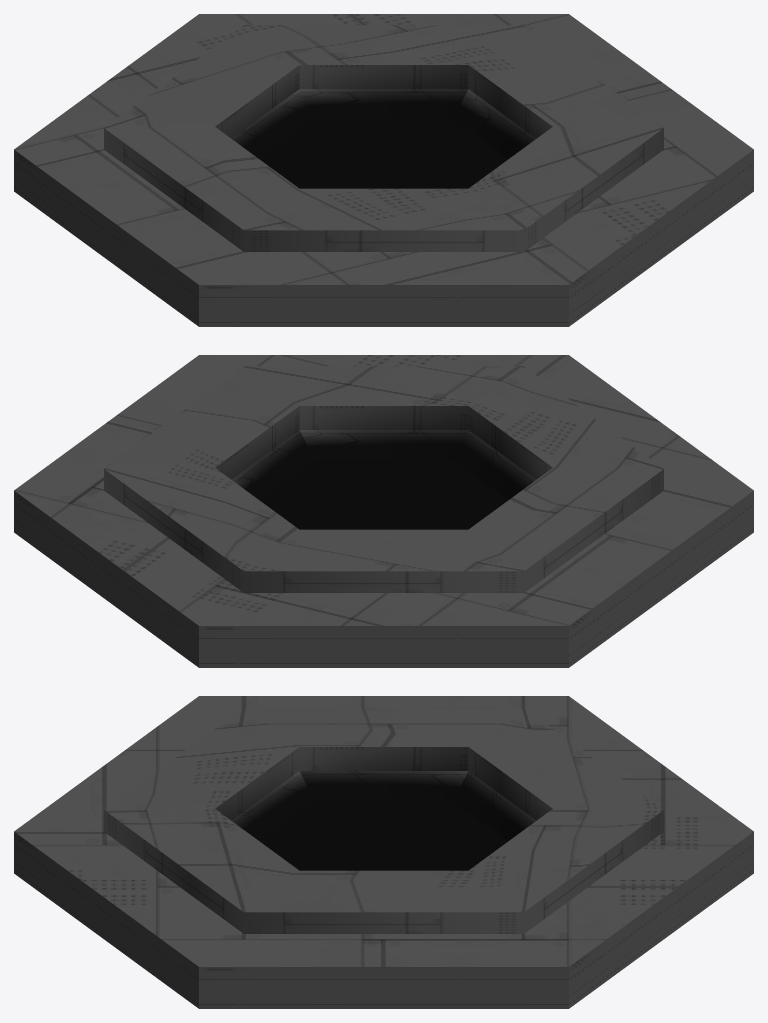
File: spawnerhole.fbx
3 views of the same model, one above another, from view 1: azimuth 30°, elevation 25°; view 2: azimuth 150°, elevation 25°; view 3: azimuth 270°, elevation 25° (orthographic).
Parts seen in each view (by area): view 1: Cylinder; view 2: Cylinder; view 3: Cylinder.
Boxes of the visible parts, left/top/right/bottom form: Cylinder: left=14, top=14, right=753, bottom=326; Cylinder: left=14, top=355, right=753, bottom=667; Cylinder: left=14, top=696, right=753, bottom=1008.
Size of the model in its own units: 2 by 1.73 by 0.193.
